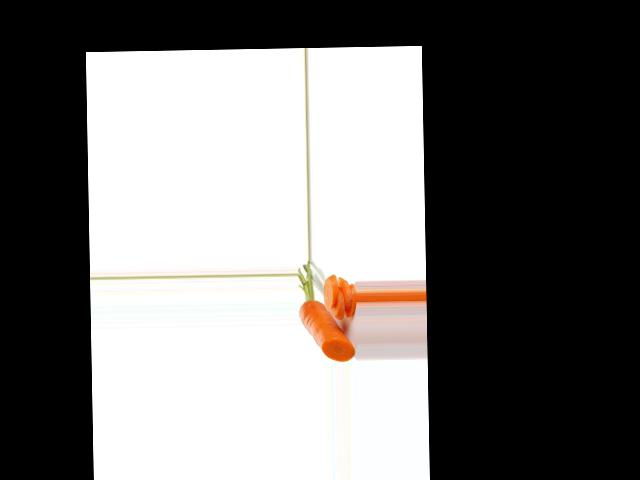carrot: (298, 298, 352, 358)
